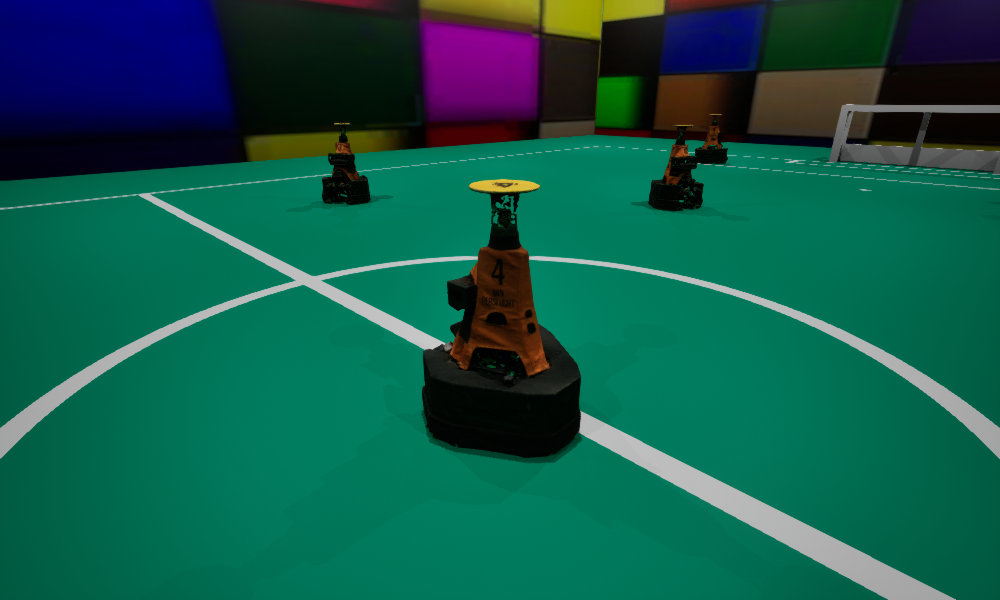o: (422, 179, 580, 457), (648, 125, 703, 210), (322, 123, 370, 203), (695, 114, 727, 163)
